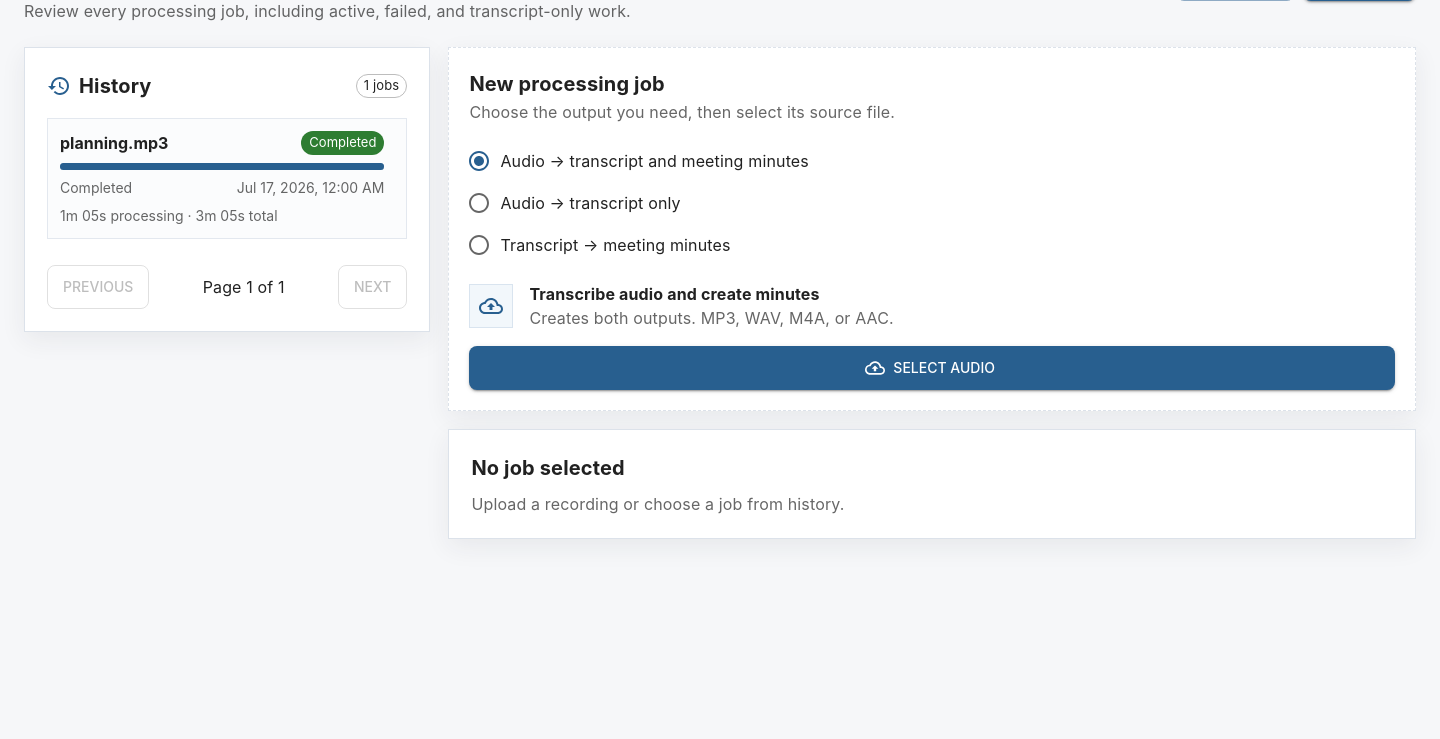
it: MeetingMind workflow › shows structured transcript paragraphs with hh:mm:ss timestamps
The width and height of the screenshot is (1440, 739).
Click the button "planning.mp3".
click(114, 143)  # box [60,131,384,226]
(page scrolled)
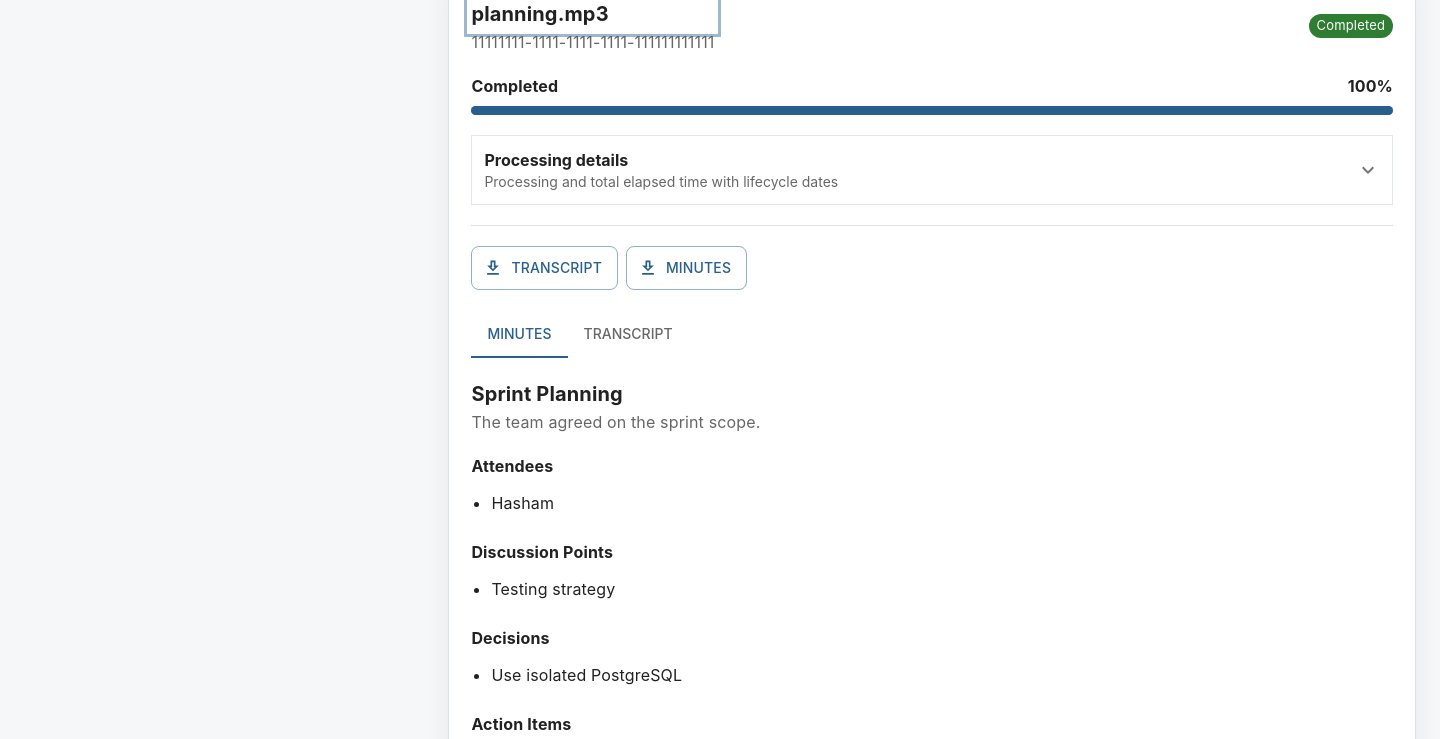
Click the tab "Transcript".
click(628, 334)  # box [568,310,689,358]
(page scrolled)
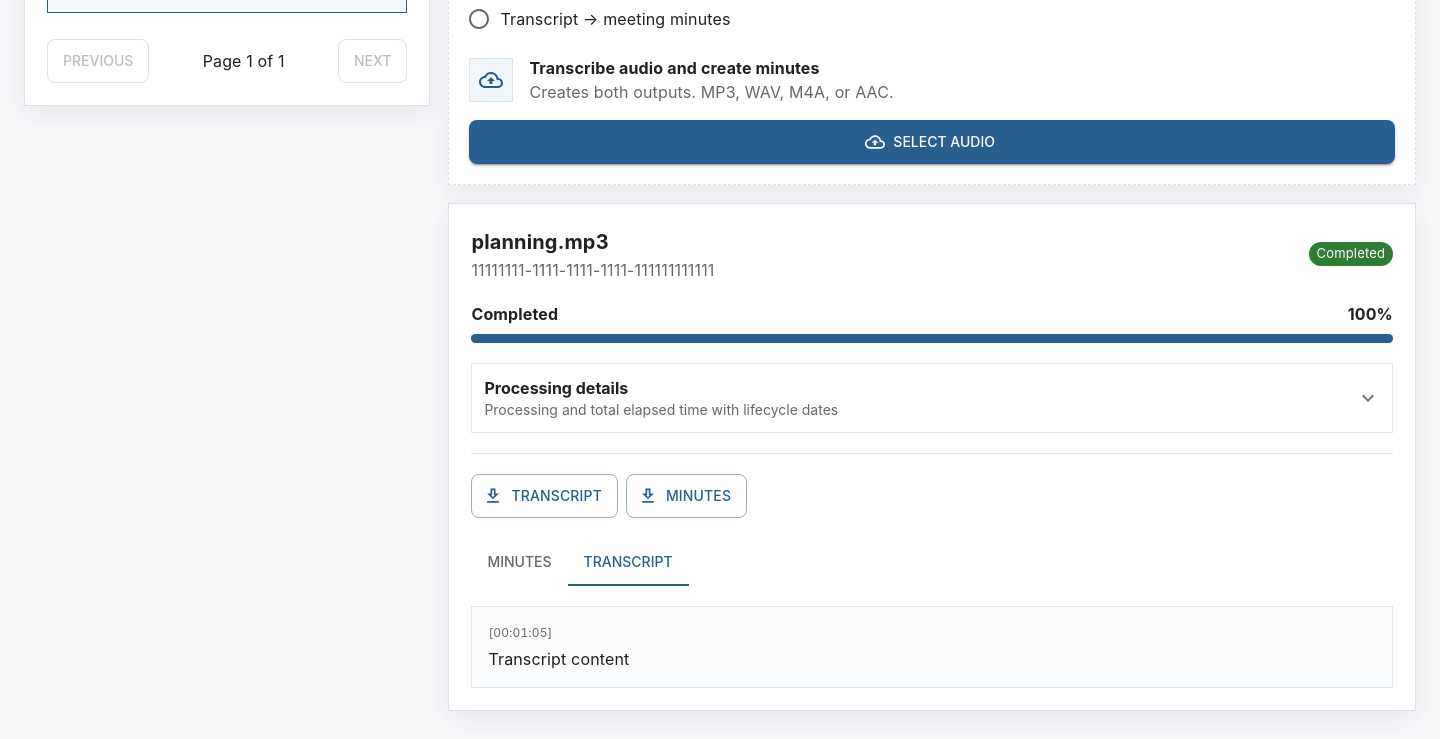
Result: the text "[00:01:05]" is shown at [488,625,552,640]
Result: the text "Transcript content" is shown at [488,649,629,669]
